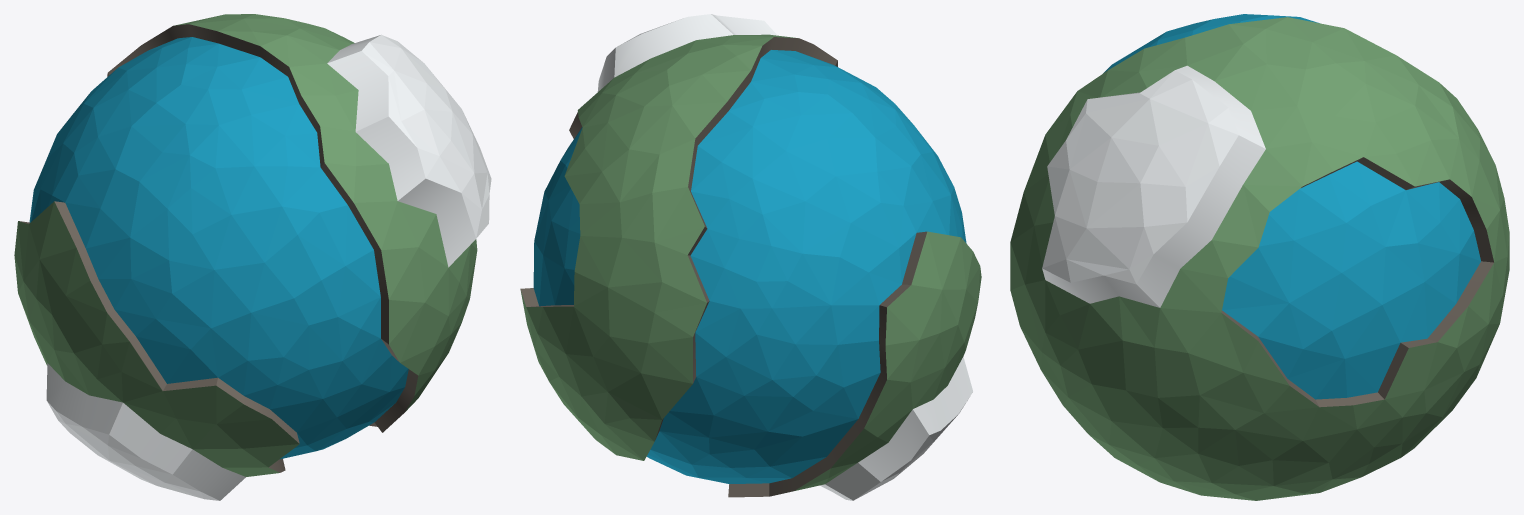
Rendered from planetOne.fbx.
3 views of the same model, side by side, from view 1: azimuth 30°, elevation 25°; view 2: azimuth 150°, elevation 25°; view 3: azimuth 270°, elevation 25° (orthographic). The views are drawn at different scales.
Visible parts, largest first — view 1: pPlatonic1; view 2: pPlatonic1; view 3: pPlatonic1.
Boxes of the visible parts, box(x1,y1,x2,y2) form: pPlatonic1: box(14, 14, 491, 500); pPlatonic1: box(520, 14, 981, 500); pPlatonic1: box(1010, 14, 1509, 500).
Size of the model in its own units: 28.18 by 28.57 by 27.92.
